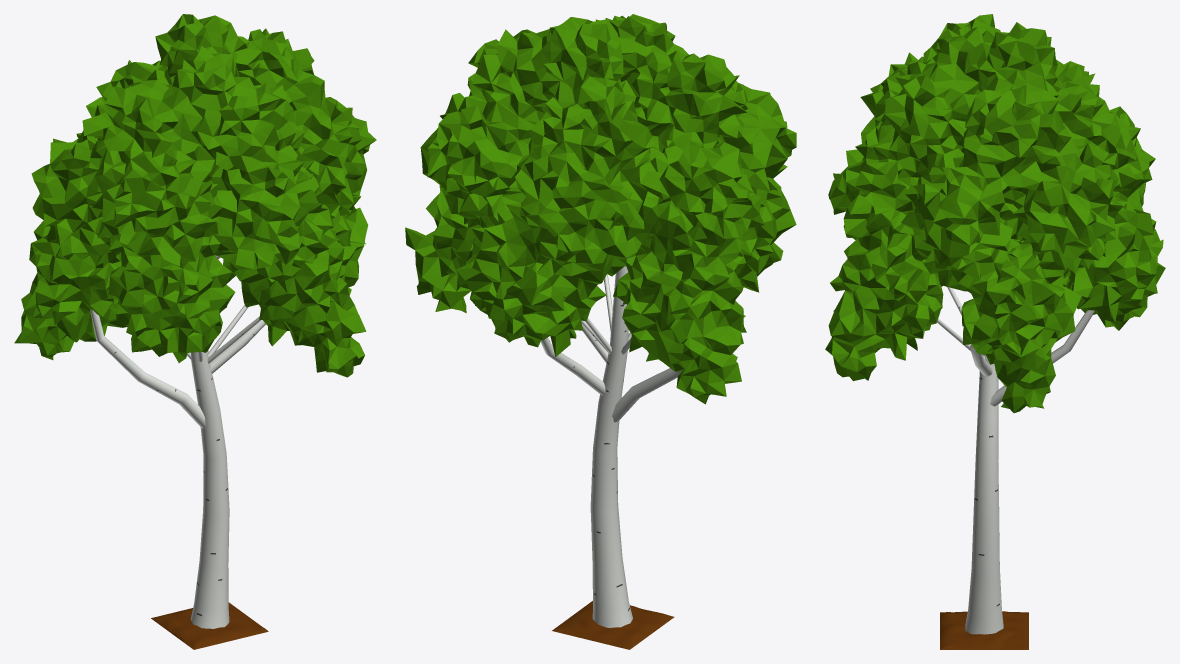
The model's file is birch-tree.glb.
3 views of the same model, side by side, from view 1: azimuth 30°, elevation 25°; view 2: azimuth 150°, elevation 25°; view 3: azimuth 270°, elevation 25° (orthographic). The views are drawn at different scales.
Parts seen in each view (by area): view 1: 5_summer_nft; view 2: 5_summer_nft; view 3: 5_summer_nft.
Part boxes in pixels (x1,y1,x2,y2): 5_summer_nft: (14,14,376,649); 5_summer_nft: (405,14,796,649); 5_summer_nft: (825,14,1165,649).
Bounding box in the file's own units: 6.23 × 10.55 × 5.38.
